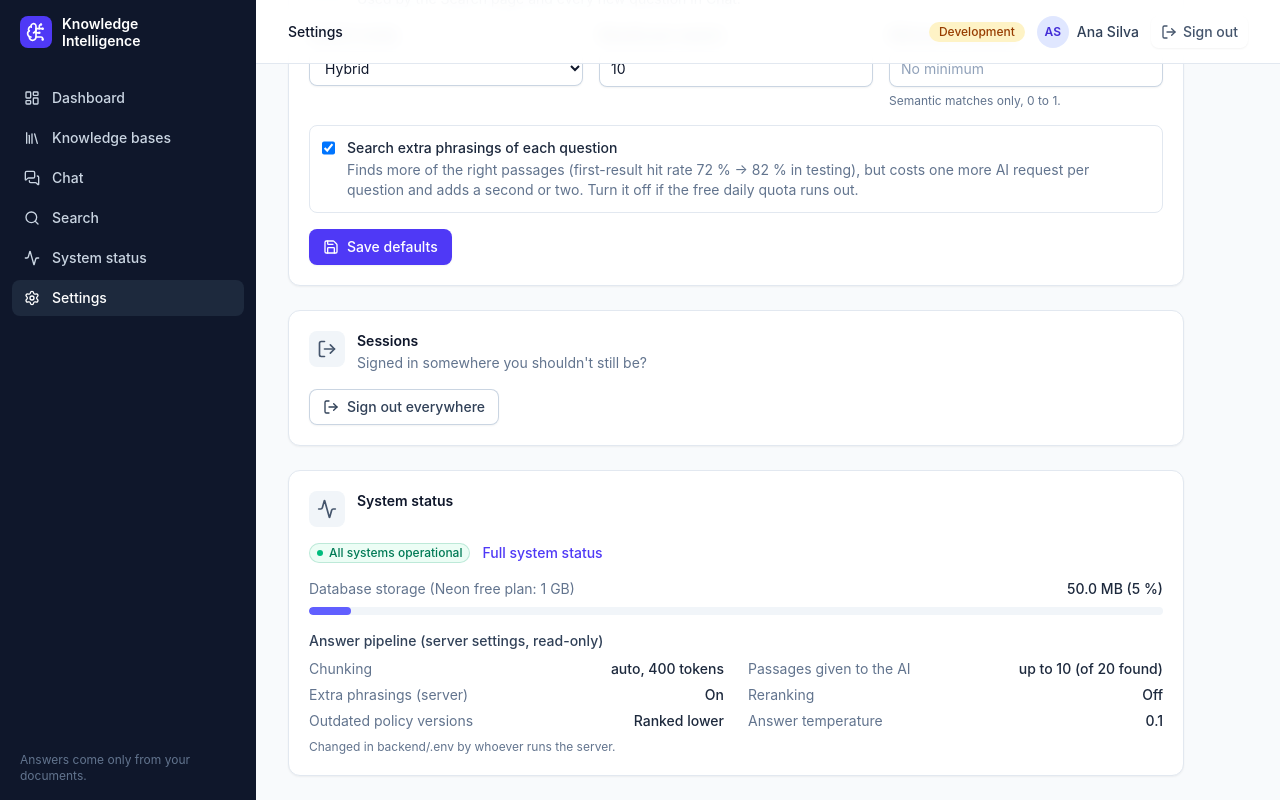
settings page › signs out everywhere after confirming, back to sign-in with a notice
The width and height of the screenshot is (1280, 800).
(page scrolled)
Step 1. Click the button "Sign out everywhere" → (404, 407), box [309,389,499,425]
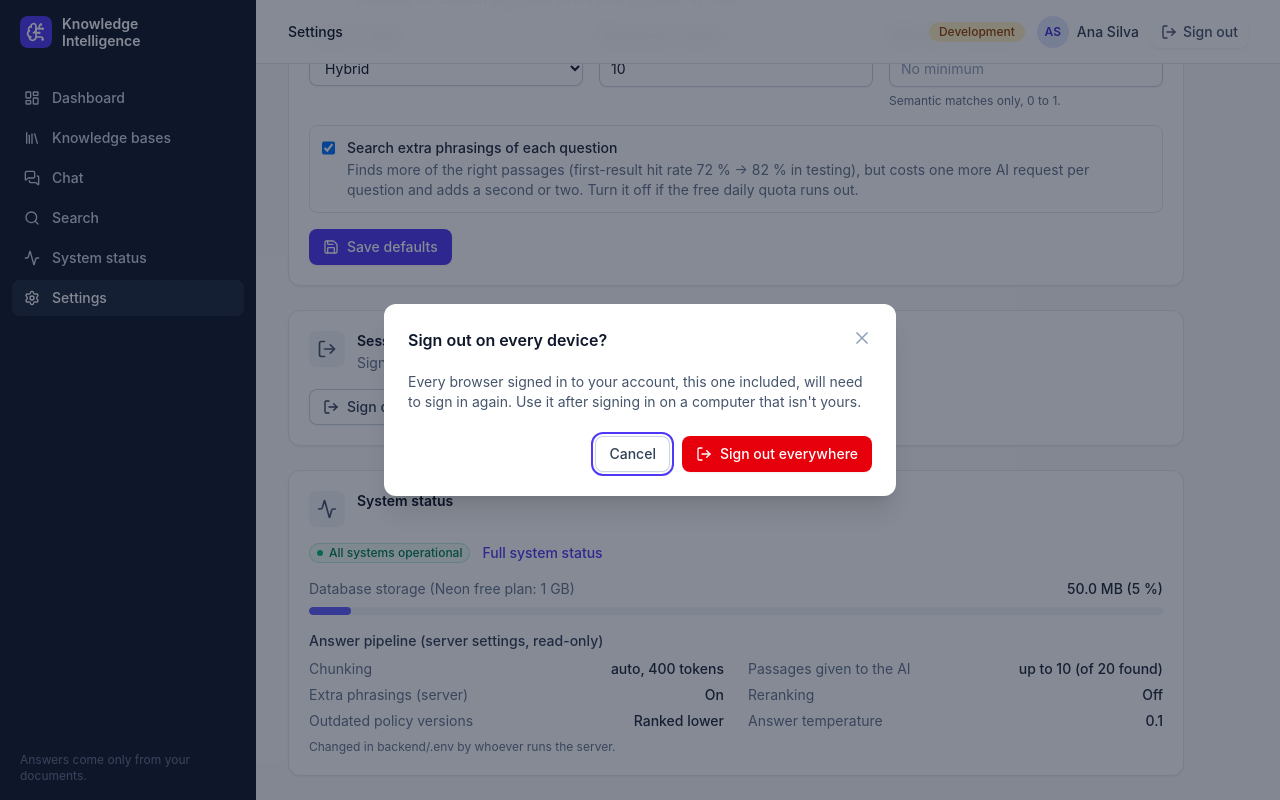
Step 2. Click the button "Sign out everywhere" → (777, 454), box [682,436,872,472]
(page scrolled)
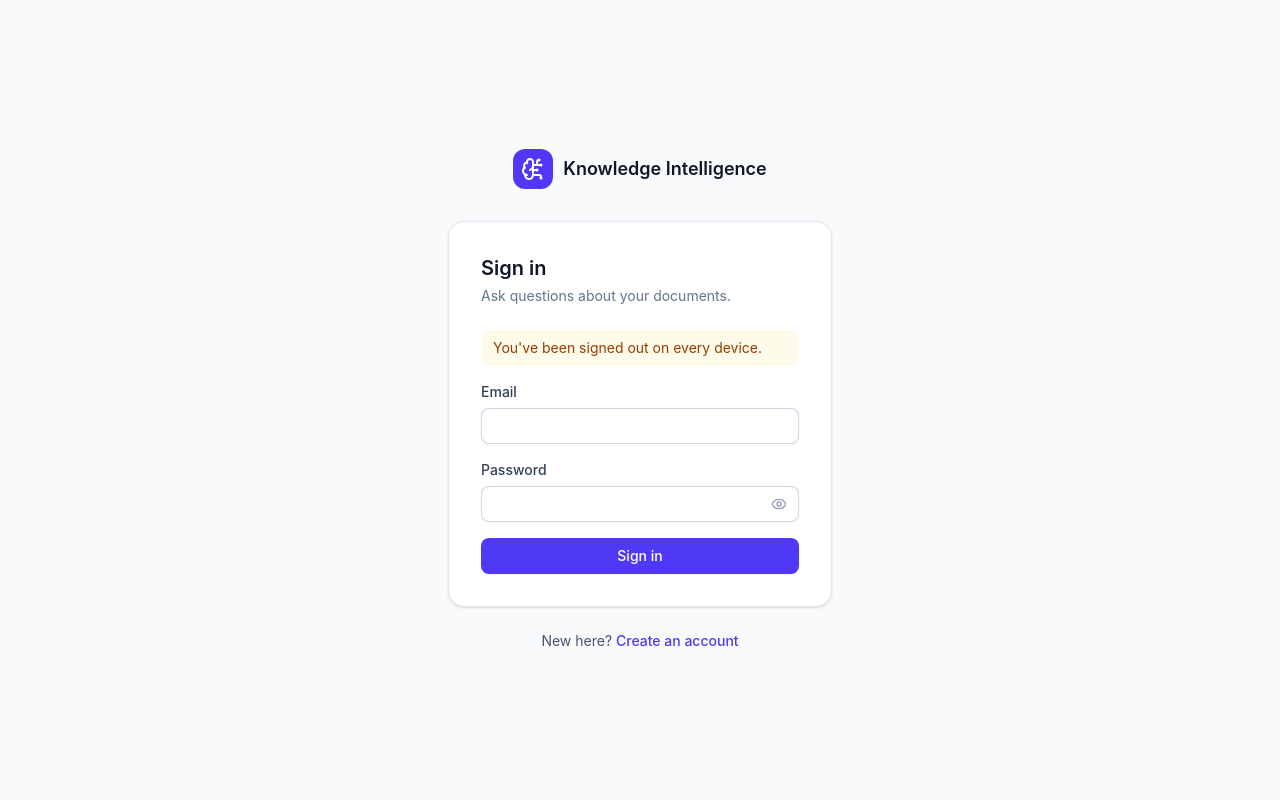
Expected: the heading "Sign in" is shown, [481,256,546,280]
Expected: the text "You've been signed out on every device." is shown, [481,330,799,366]
